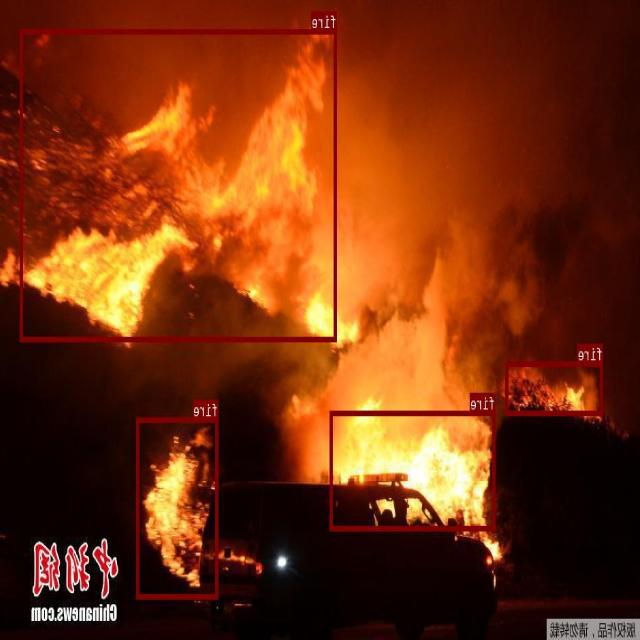fire: (20, 28, 338, 341), (330, 410, 496, 530), (137, 417, 219, 598), (506, 361, 603, 414)
